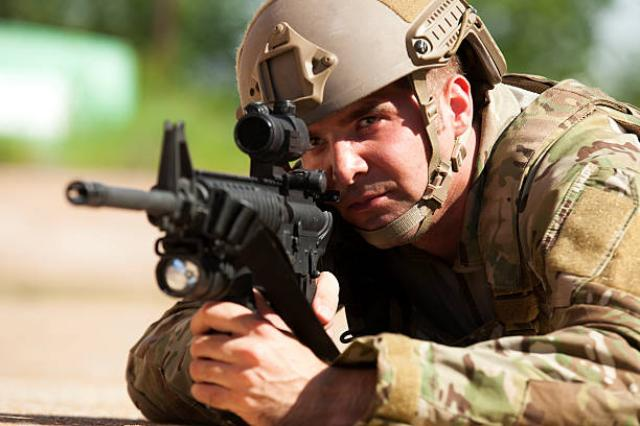other: (191, 0, 639, 424)
